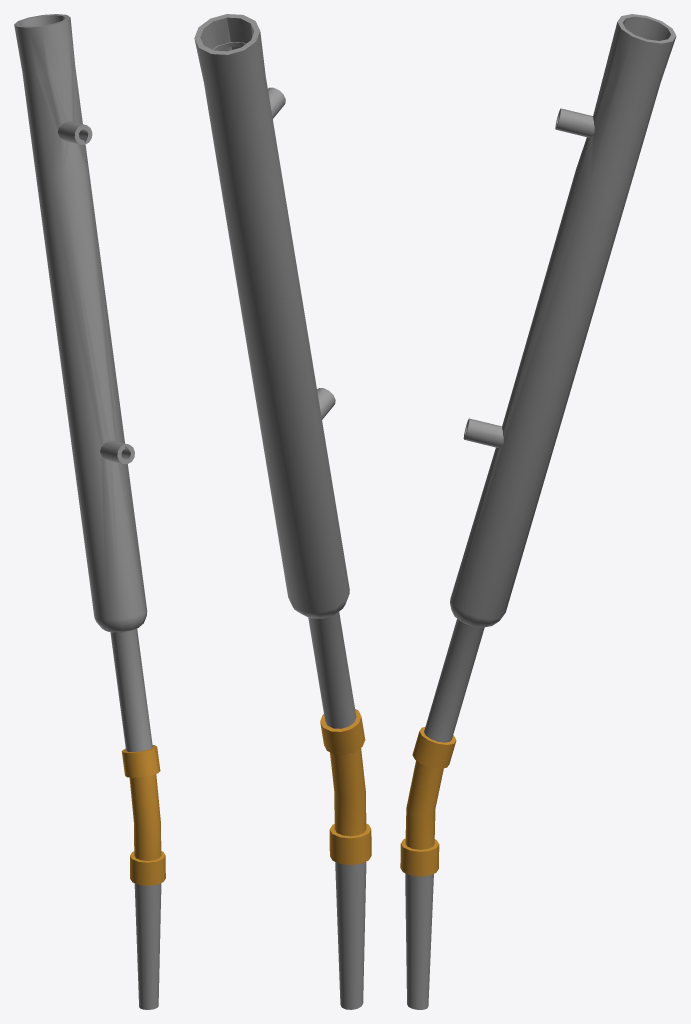
File: SM_凯式定氮仪_002.fbx
The picture shows the model from 3 angles, left to right: view 1: azimuth 30°, elevation 25°; view 2: azimuth 150°, elevation 25°; view 3: azimuth 270°, elevation 25°; orthographic projection. The views are drawn at different scales.
Visible parts, largest first — view 1: SM_凯式定氮仪_002; view 2: SM_凯式定氮仪_002; view 3: SM_凯式定氮仪_002.
Boxes of the visible parts, x1,y1,x2,y2 form: SM_凯式定氮仪_002: [14, 14, 165, 1009]; SM_凯式定氮仪_002: [194, 14, 371, 1009]; SM_凯式定氮仪_002: [400, 14, 676, 1009].
Bounding box in the file's own units: 0.0238 × 0.4223 × 0.1073.
